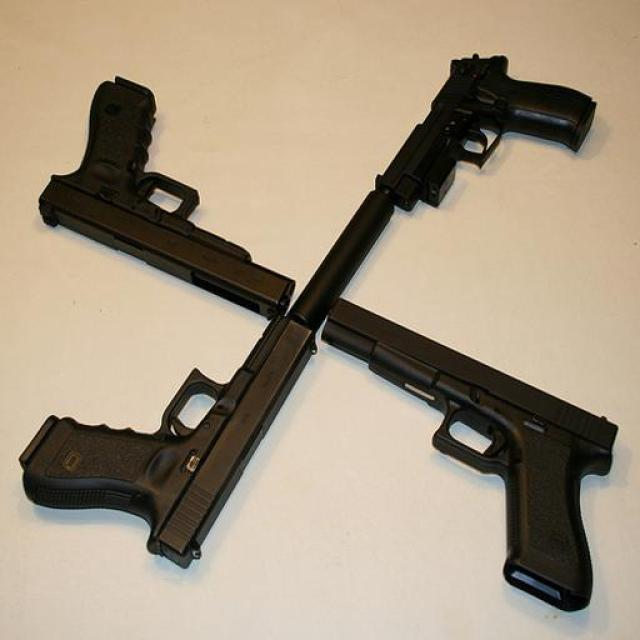pistol: (322, 296, 616, 612), (20, 311, 311, 565), (36, 74, 294, 319), (368, 52, 599, 221)
